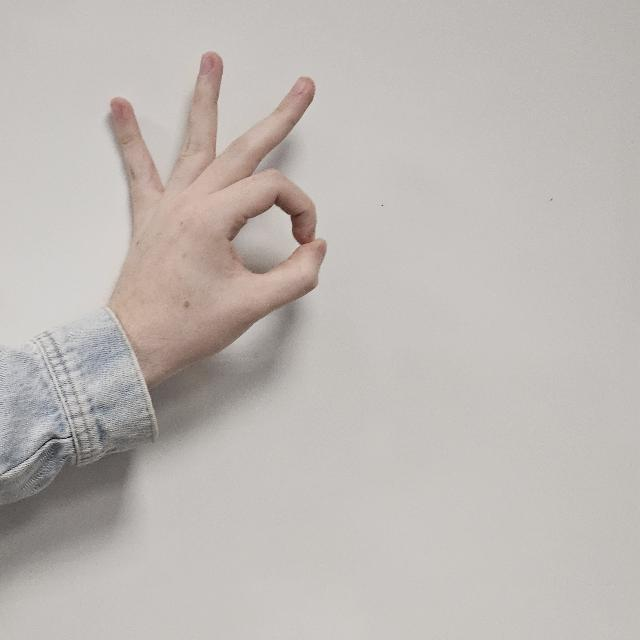Bolinha: (106, 29, 368, 384)
